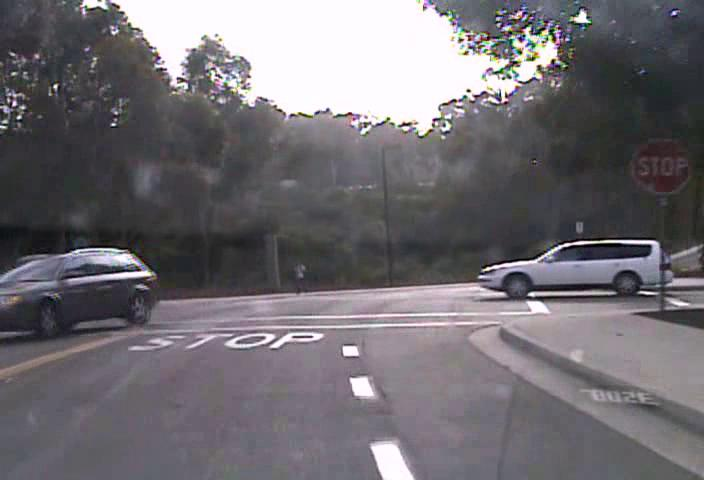stop: (630, 136, 691, 195)
